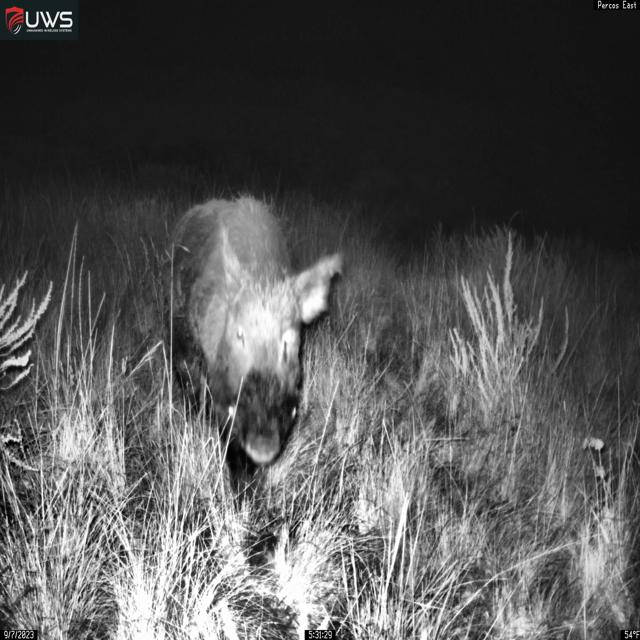pig: (160, 193, 344, 506)
